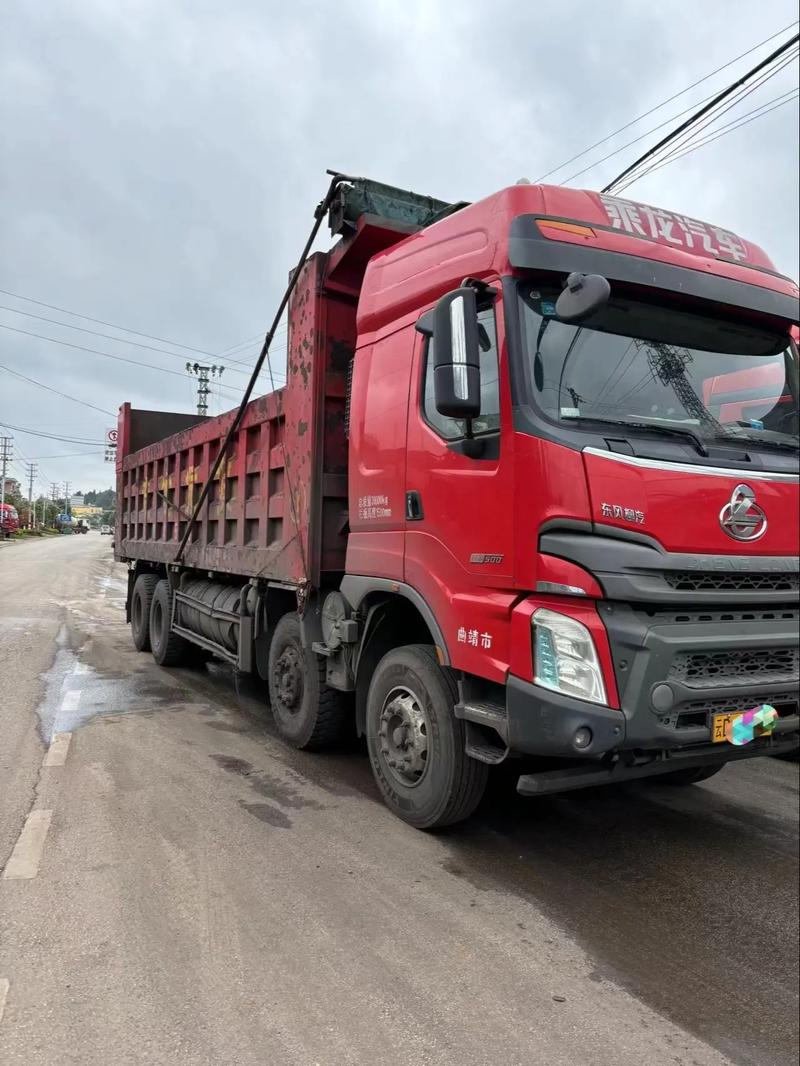卡车: (72, 150, 800, 862)
